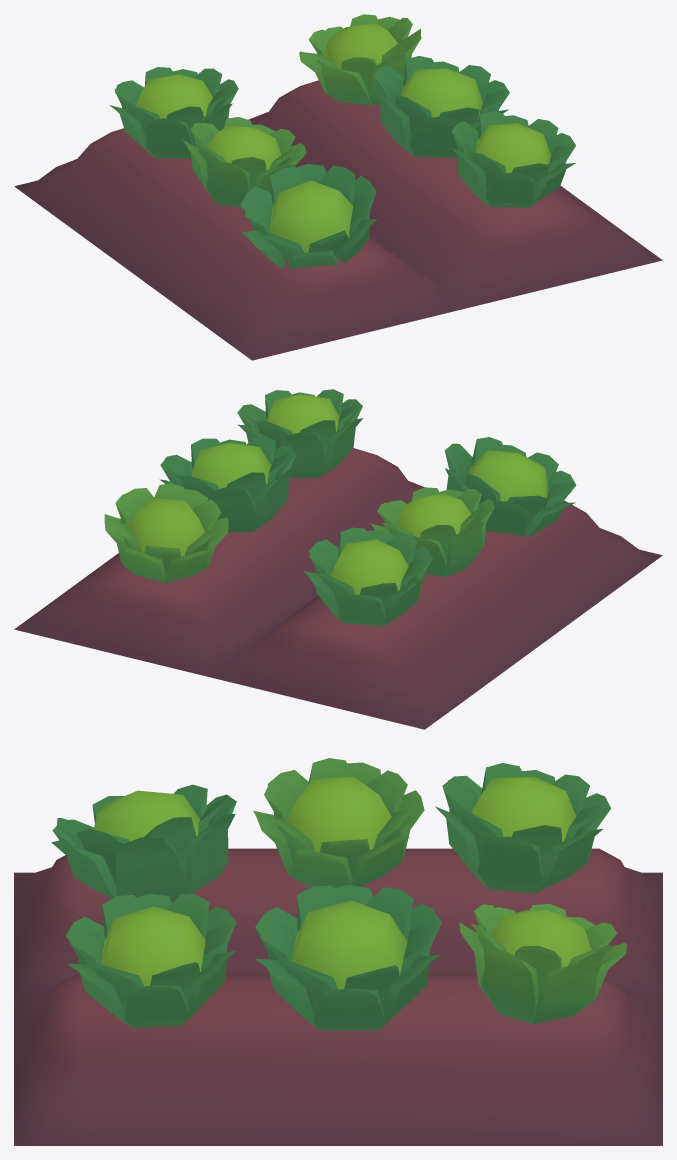
Rendered from village_town_farm_cabbage.glb.
3 views of the same model, one above another, from view 1: azimuth 30°, elevation 25°; view 2: azimuth 150°, elevation 25°; view 3: azimuth 270°, elevation 25° (orthographic). The views are drawn at different scales.
Parts seen in each view (by area): view 1: Farm_Cabbage.001_Material.005_0; view 2: Farm_Cabbage.001_Material.005_0; view 3: Farm_Cabbage.001_Material.005_0.
Part boxes in pixels (x1,y1,x2,y2): Farm_Cabbage.001_Material.005_0: (14, 14, 662, 360); Farm_Cabbage.001_Material.005_0: (14, 389, 662, 729); Farm_Cabbage.001_Material.005_0: (14, 758, 662, 1145).
Bounding box in the file's own units: 1.99 × 0.5746 × 2.
Materials: 1 (1 with a texture image).
